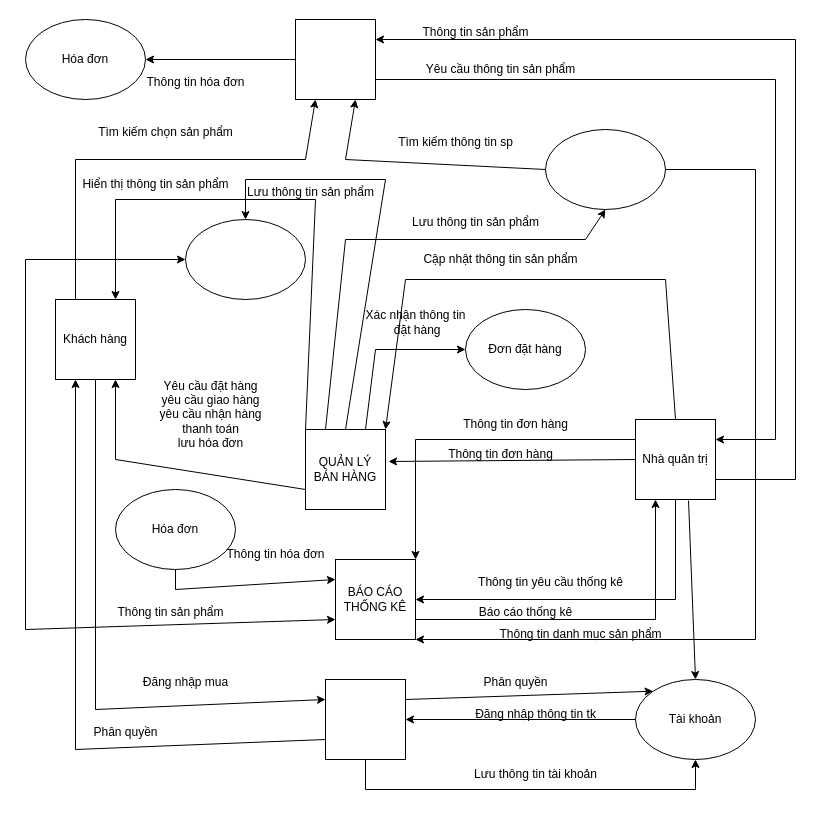
This 821x815 diagram has some shape labels left out. Here are the shapes that lost their labels. From the top down, the centre of each, then its label:
At point (335, 59): "QUẢN LÝ NHẬP HÀNG".
At point (605, 169): "Danh mục sản phẩm".
At point (245, 259): "Giỏ hàng".
At point (365, 719): "QUẢN LÝ NGƯỜI DÙNG".
